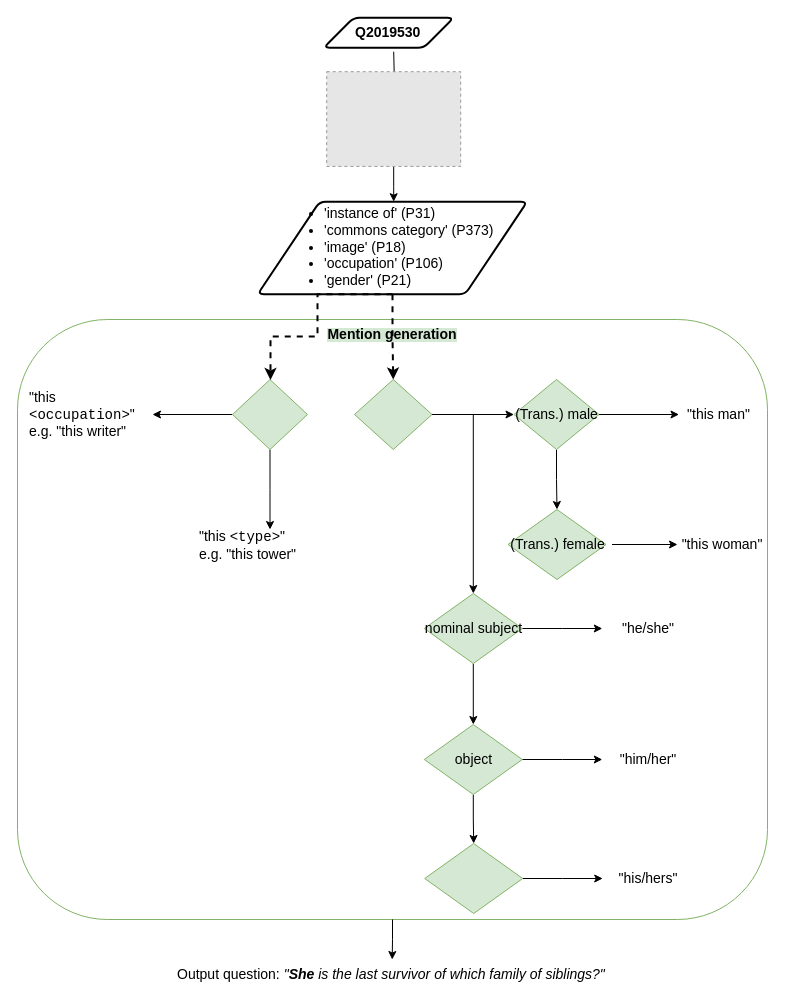
Some shapes in this 785 by 1007 pixel diagram are drawn without their labels. Grey dashed boxes stand in for pictures. Each missing label, with the centre of its shape:
"Gender available" goes at (393,414).
"human (Q5)" goes at (270,414).
"possession modifier" goes at (473,878).
